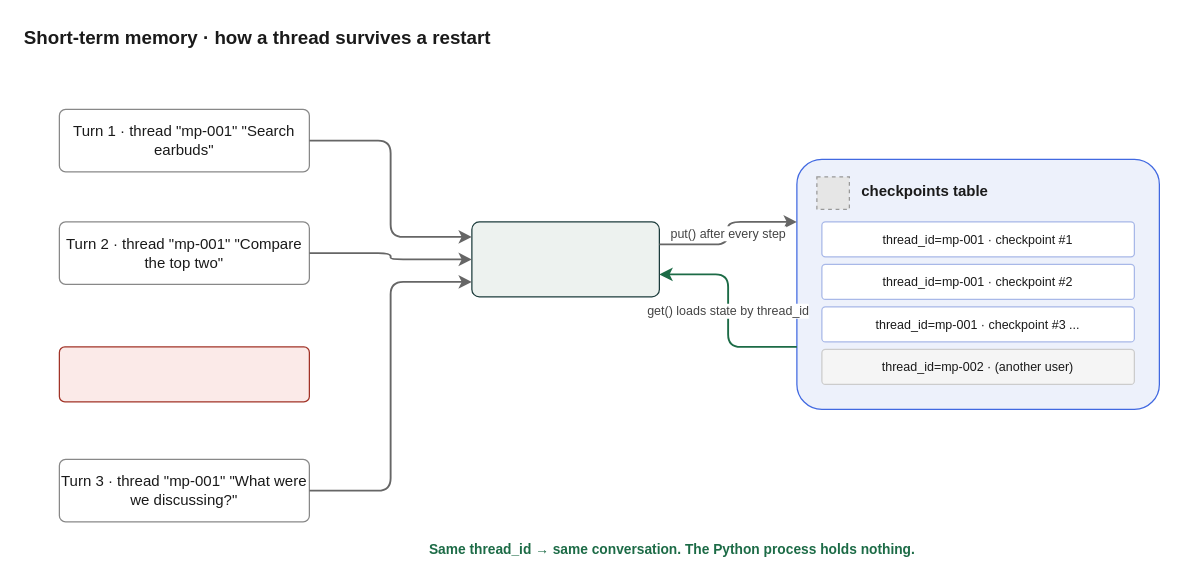
This 1181x585 diagram has some shape labels left out. Grey dashed boxes stand in for pictures. The shapes that lost their labels are listed below. From the top down, each one's centre as x and y in pixels, then its label:
pixel 565 259: LangGraph + checkpointer
pixel 183 374: Backend restarts 💥
